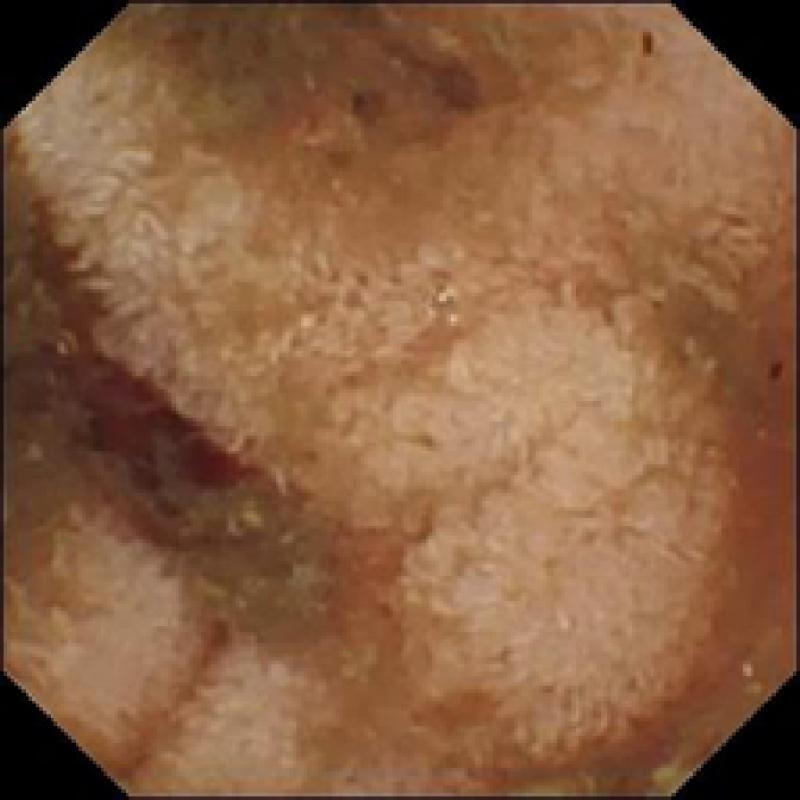bleeding: (25, 196, 275, 568), (193, 606, 238, 659)
